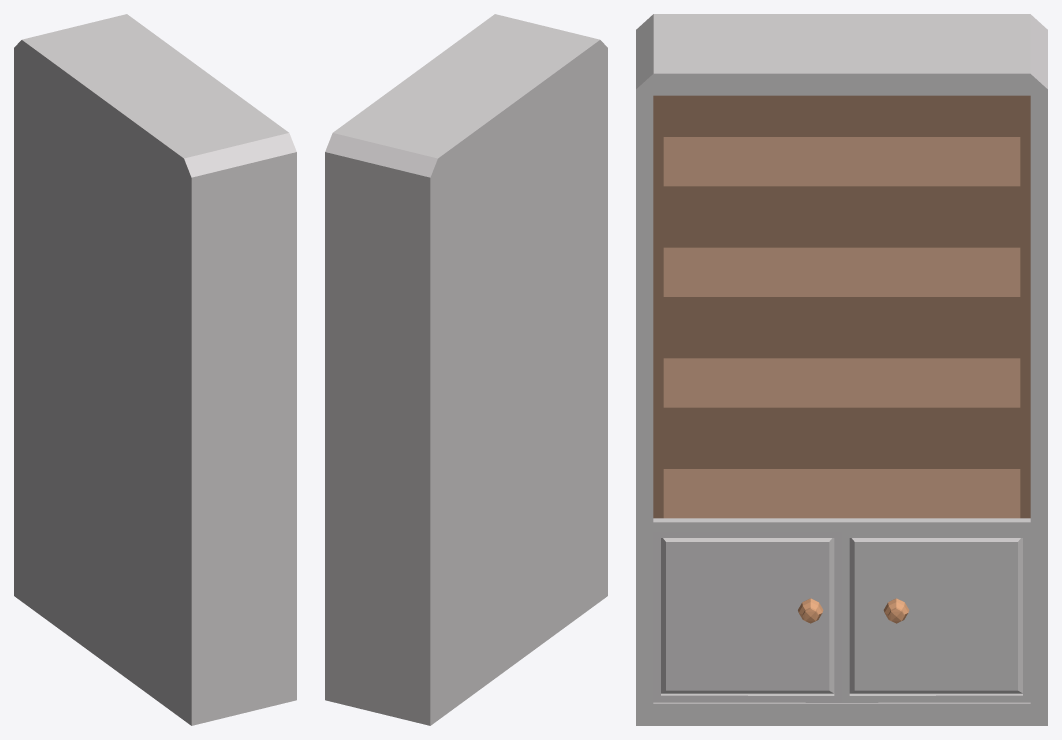
Rendered from Bookshelf.fbx.
3 views of the same model, side by side, from view 1: azimuth 30°, elevation 25°; view 2: azimuth 150°, elevation 25°; view 3: azimuth 270°, elevation 25° (orthographic). The views are drawn at different scales.
Visible parts, largest first — view 1: Bookcase; view 2: Bookcase; view 3: Bookcase.
Part boxes in pixels (x1,y1,x2,y2): Bookcase: (14, 14, 296, 725); Bookcase: (325, 14, 607, 725); Bookcase: (636, 14, 1047, 725).
Size of the model in its own units: 352 by 1569 by 898.
